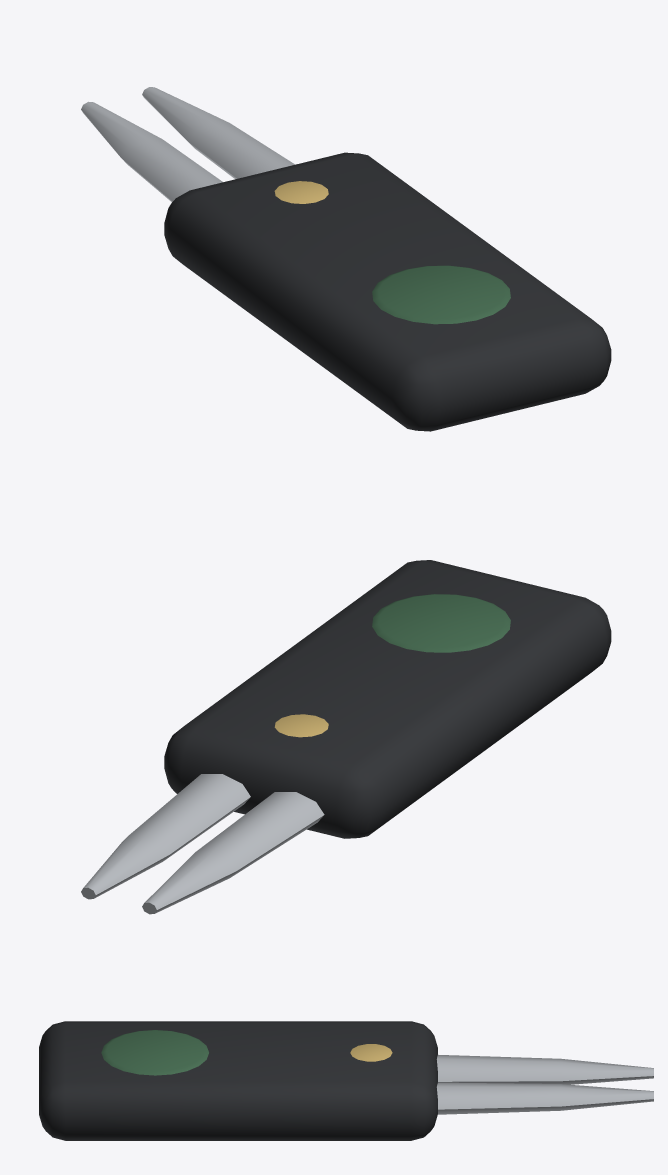
Rendered from pf_divot_folding_black.glb.
3 renders of one model, top to bottom at view 1: azimuth 30°, elevation 25°; view 2: azimuth 150°, elevation 25°; view 3: azimuth 270°, elevation 25°, orthographic. The views are drawn at different scales.
Visible parts, largest first — view 1: pf_divot_folding_black_body; view 2: pf_divot_folding_black_body; view 3: pf_divot_folding_black_body.
Part boxes in pixels (x1,y1,x2,y2): pf_divot_folding_black_body: (81,87,611,431); pf_divot_folding_black_body: (81,560,611,914); pf_divot_folding_black_body: (39,1021,653,1140).
Bounding box in the file's own units: 0.026 × 0.011 × 0.077.
Materials: 5 (1 with a texture image).
